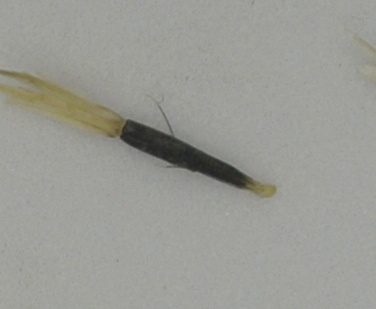เมล้ดปลายพู่กัน: (1, 62, 277, 199)
